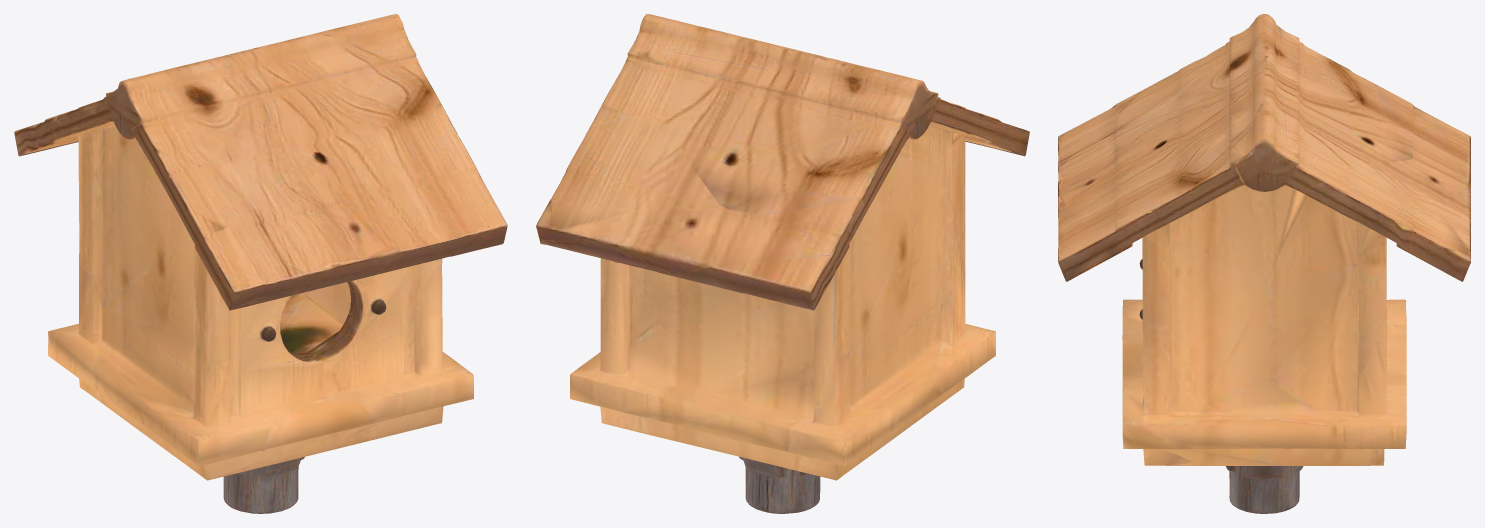
File: prop-nest-box.glb
The picture shows the model from 3 angles, left to right: view 1: azimuth 30°, elevation 25°; view 2: azimuth 150°, elevation 25°; view 3: azimuth 270°, elevation 25°; orthographic projection. The views are drawn at different scales.
Size of the model in its own units: 1.23 by 1.91 by 1.69.
1 material, 1 textured.
